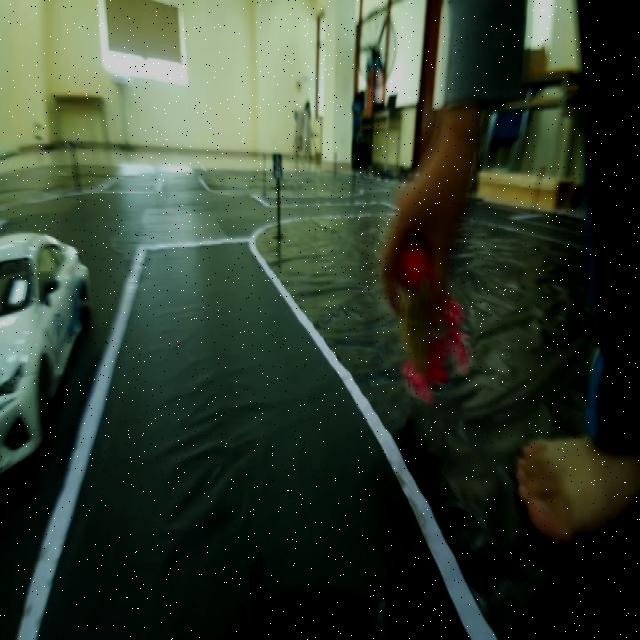car: (0, 186, 84, 494)
